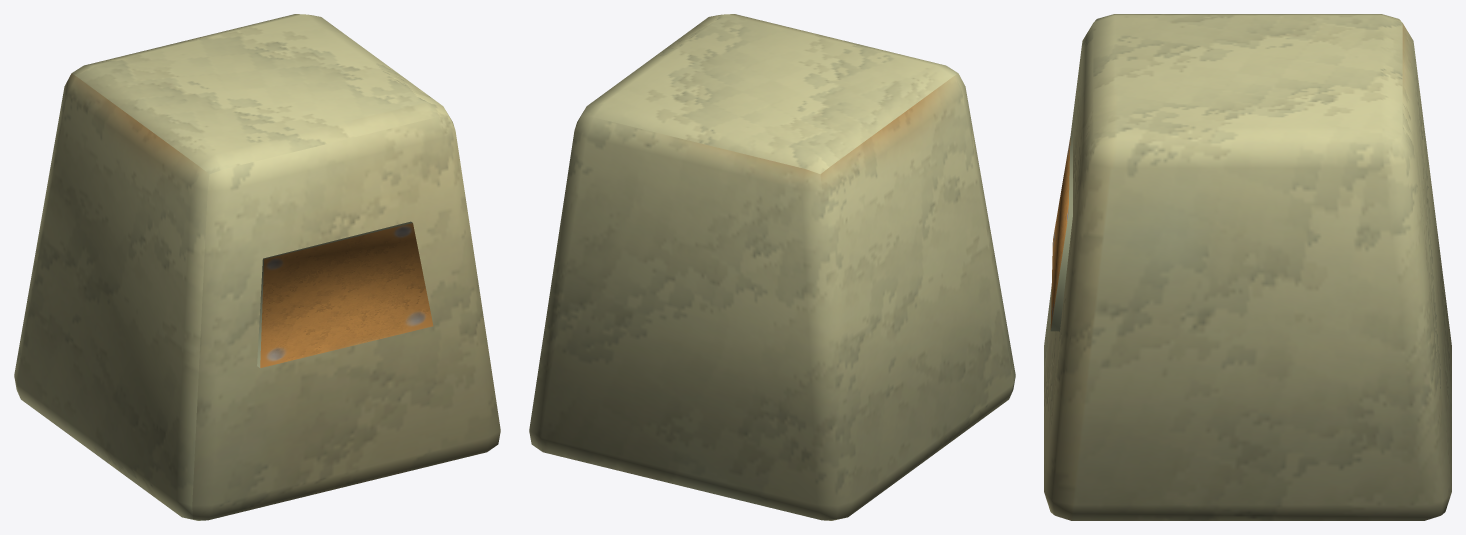
Rendered from Pedestal.fbx.
3 views of the same model, side by side, from view 1: azimuth 30°, elevation 25°; view 2: azimuth 150°, elevation 25°; view 3: azimuth 270°, elevation 25° (orthographic). The views are drawn at different scales.
Visible parts, largest first — view 1: Pedestal; view 2: Pedestal; view 3: Pedestal.
Boxes of the visible parts, <box> form: Pedestal: <box>14,14,500,520</box>; Pedestal: <box>529,14,1015,520</box>; Pedestal: <box>1044,14,1451,520</box>.
Size of the model in its own units: 161 by 163 by 161.
